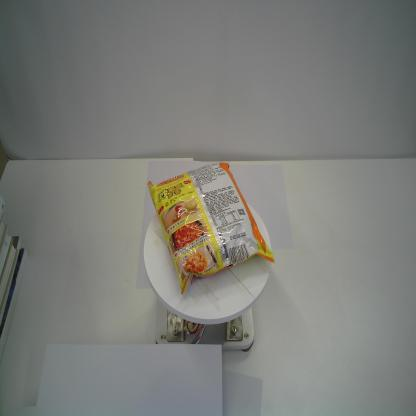Instant Noodles: (147, 161, 275, 296)
